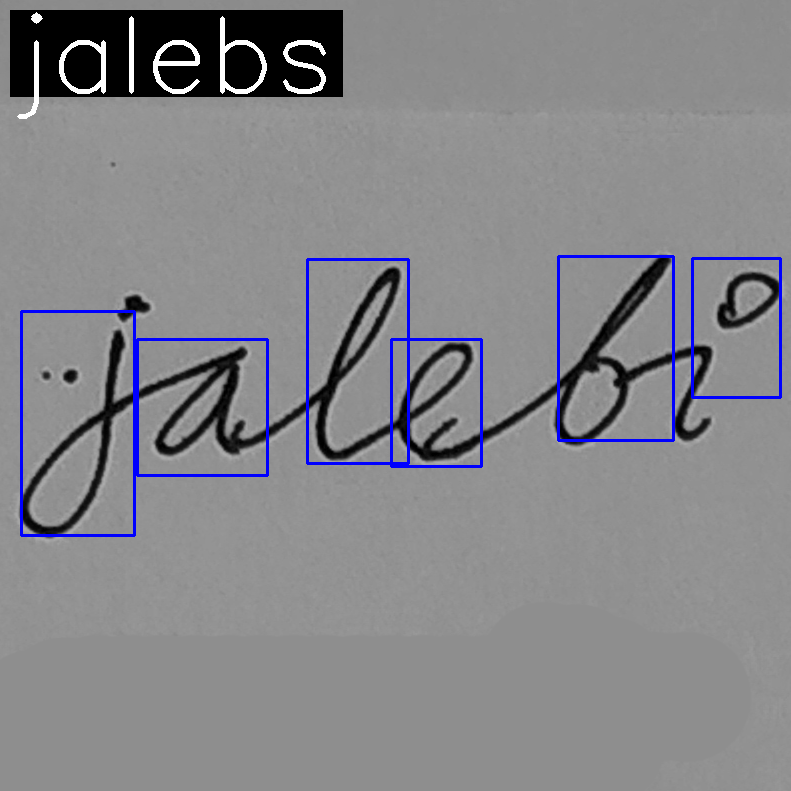a: (151, 345, 253, 459)
b: (551, 251, 674, 450)
e: (395, 338, 484, 466)
i: (670, 269, 783, 443)
j: (16, 290, 148, 540)
l: (312, 263, 404, 464)
